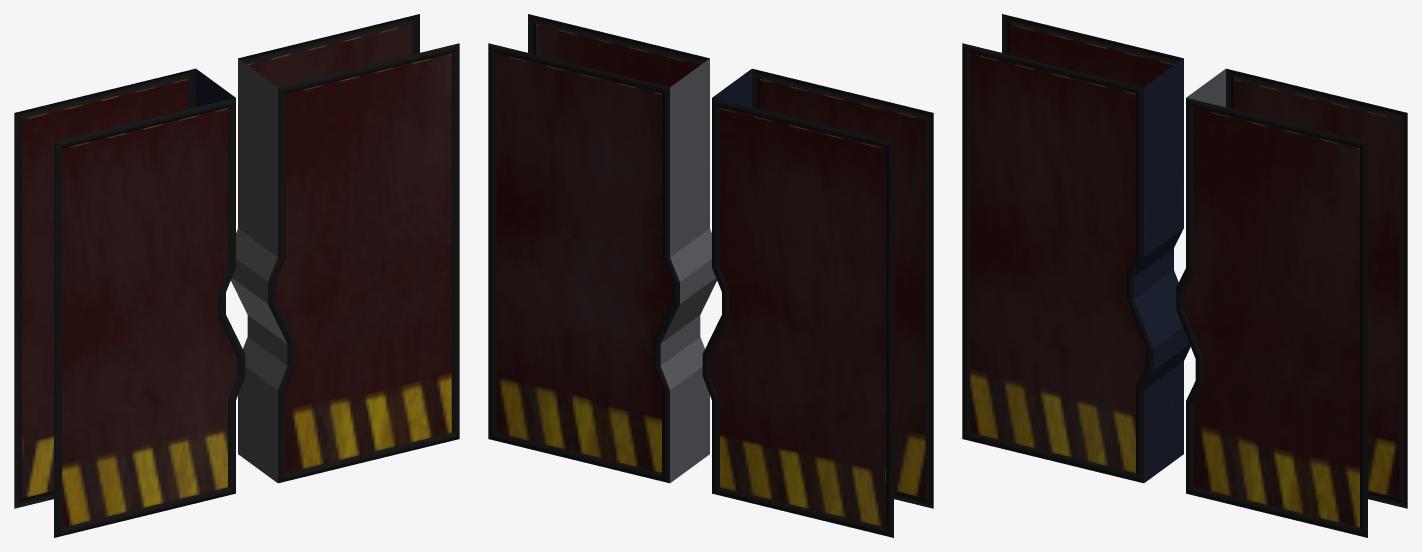
File: door-frame-locked_000002.obj
3 views of the same model, side by side, from view 1: azimuth 30°, elevation 25°; view 2: azimuth 150°, elevation 25°; view 3: azimuth 330°, elevation 25° (orthographic).
Visible parts, largest first — view 1: Door.Right_Cube.006, Door.Left_Cube.007; view 2: Door.Right_Cube.006, Door.Left_Cube.007; view 3: Door.Left_Cube.007, Door.Right_Cube.006.
Boxes of the visible parts, bbox=[...] form: Door.Right_Cube.006: bbox=[14, 68, 245, 537]; Door.Left_Cube.007: bbox=[231, 14, 459, 483]; Door.Right_Cube.006: bbox=[702, 68, 933, 537]; Door.Left_Cube.007: bbox=[488, 14, 716, 483]; Door.Left_Cube.007: bbox=[1176, 68, 1407, 537]; Door.Right_Cube.006: bbox=[962, 14, 1190, 483].
Bounding box in the file's own units: 5.64 × 5.26 × 0.9998.
6 materials, 6 textured.
